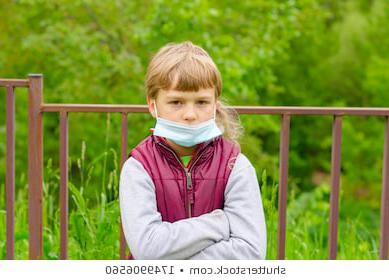mask_weared_incorrect: (160, 94, 214, 145)
